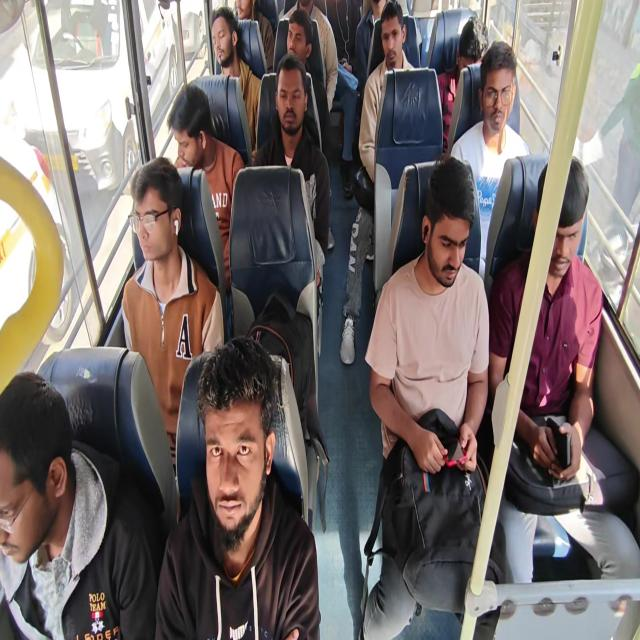person: (190, 331, 273, 544), (1, 371, 75, 567), (124, 158, 190, 287), (421, 165, 480, 292), (532, 160, 587, 276), (480, 45, 527, 135), (171, 86, 213, 169), (270, 64, 314, 129), (379, 4, 405, 66), (460, 15, 488, 67), (288, 11, 310, 75), (210, 11, 238, 59), (234, 1, 260, 26)
